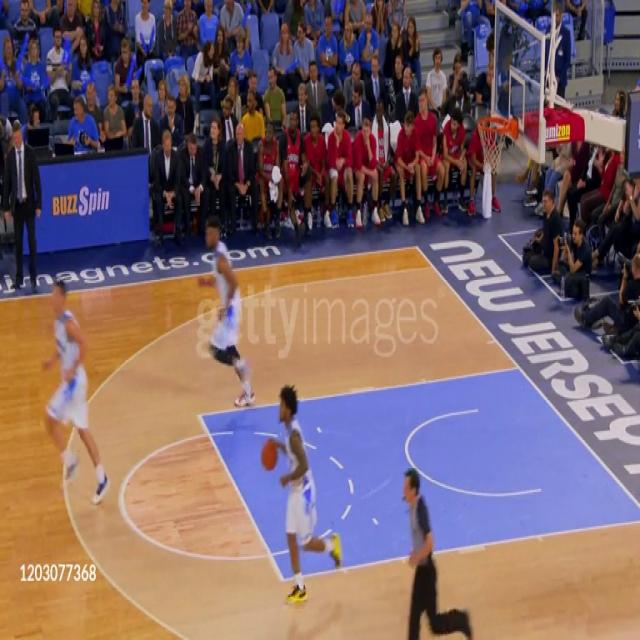ball: (260, 437, 279, 473)
